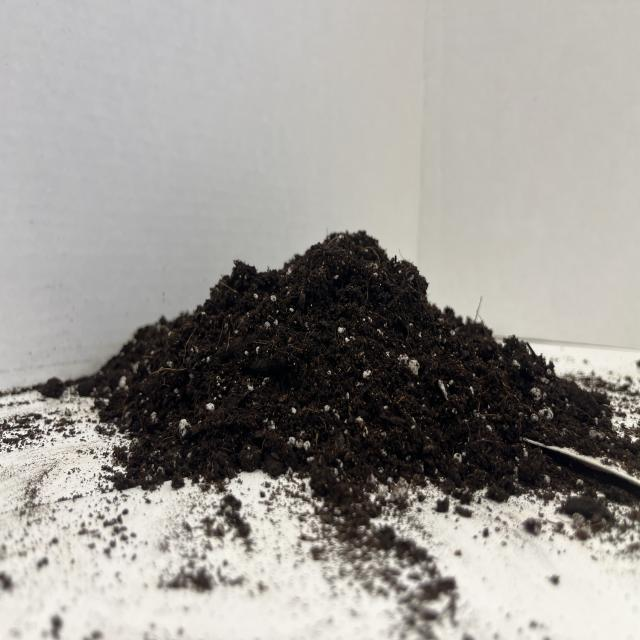soil: (56, 227, 635, 511)
